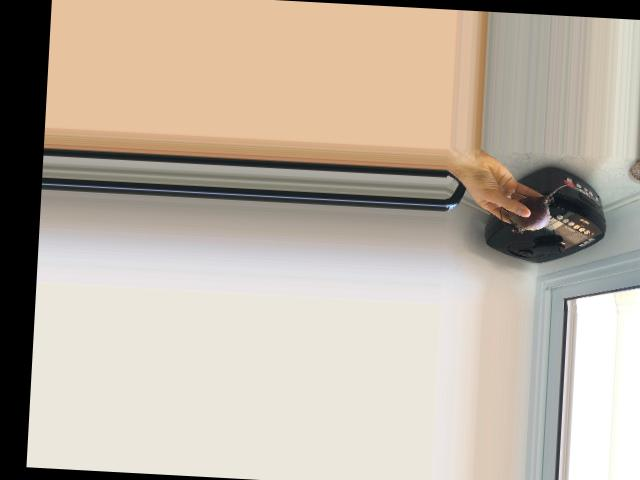beet: (500, 180, 566, 235)
